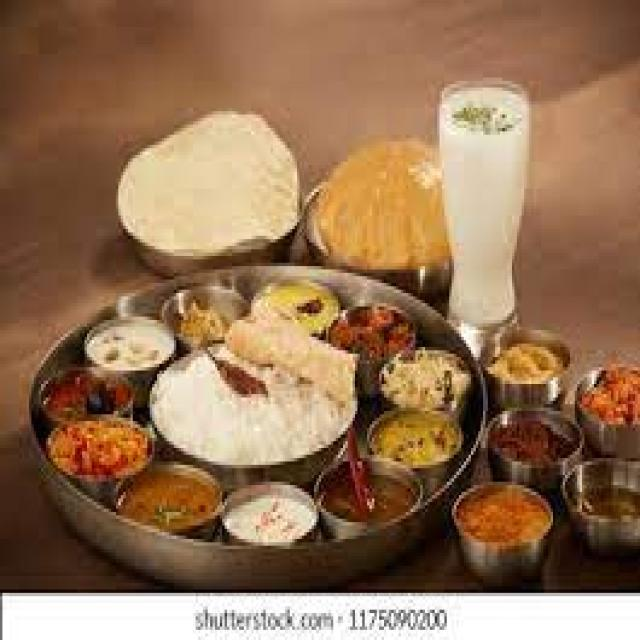dal: (39, 414, 148, 494), (83, 309, 179, 382)
rice: (153, 311, 366, 487), (363, 348, 481, 485)
sambar-rasam: (120, 99, 301, 270)
sweet: (35, 363, 134, 438), (490, 406, 579, 484), (574, 356, 638, 441)
veg-fry: (33, 405, 156, 494), (572, 358, 640, 444)
